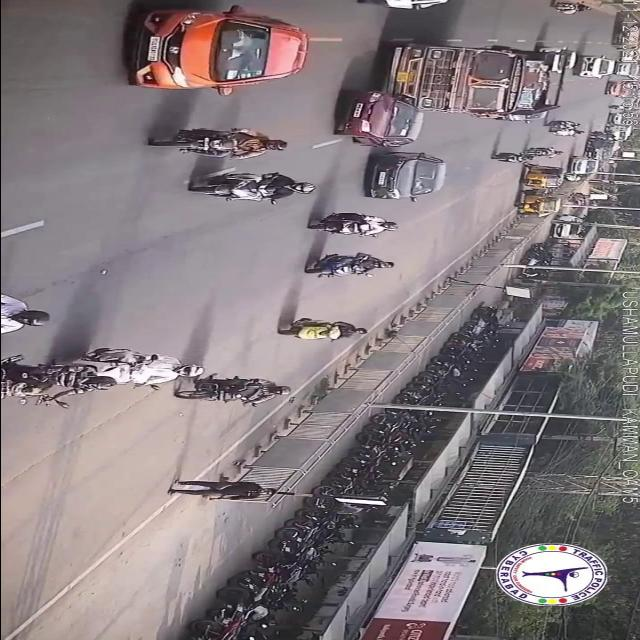accident: (324, 39, 576, 149)
non_accident: (0, 341, 208, 409), (565, 131, 619, 183), (541, 117, 587, 139)
